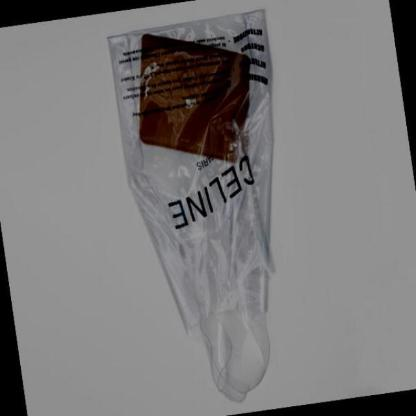Plastic Packaging: (107, 5, 324, 401)
